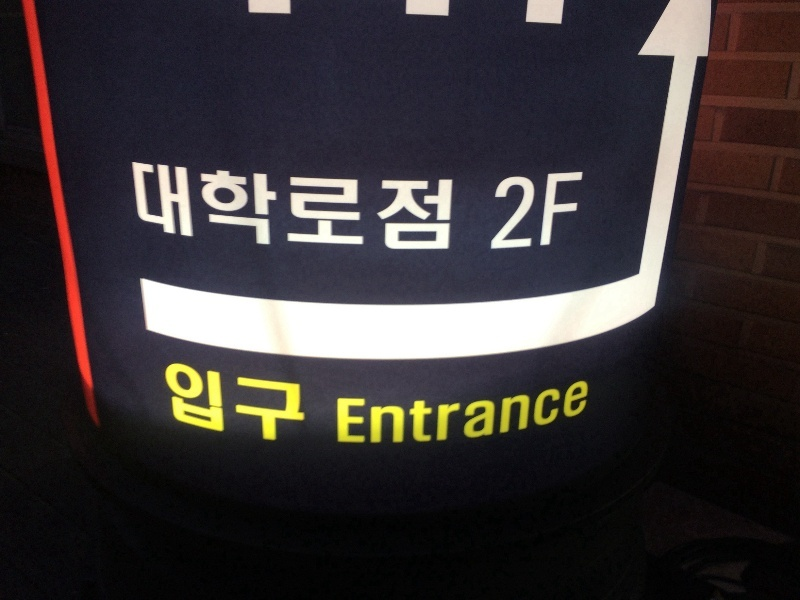text: (129, 159, 144, 258), (145, 159, 160, 258), (161, 159, 176, 258), (177, 159, 192, 258), (193, 159, 208, 258), (209, 159, 224, 258), (225, 159, 240, 258), (241, 159, 256, 258), (257, 159, 272, 258), (273, 159, 288, 258), (289, 159, 304, 258), (305, 159, 320, 258), (321, 159, 336, 258), (337, 159, 352, 258), (353, 159, 368, 258), (369, 159, 384, 258), (385, 159, 400, 258), (401, 159, 416, 258), (417, 159, 432, 258), (433, 159, 448, 258), (161, 359, 176, 449), (177, 359, 192, 449), (193, 359, 208, 449), (209, 359, 224, 449), (225, 359, 240, 449), (241, 359, 256, 449), (257, 359, 272, 449), (273, 359, 288, 449), (289, 359, 304, 449), (497, 169, 512, 256), (513, 169, 528, 256), (529, 169, 544, 256), (545, 169, 560, 256), (561, 169, 576, 256), (337, 378, 352, 450), (353, 378, 368, 450), (369, 378, 384, 450), (385, 378, 400, 450), (401, 378, 416, 450), (417, 378, 432, 450), (433, 378, 448, 450), (449, 378, 464, 450), (465, 378, 480, 450), (481, 378, 496, 450), (497, 378, 512, 450), (513, 378, 528, 450), (529, 378, 544, 450), (545, 378, 560, 450), (561, 378, 576, 450), (577, 378, 591, 450), (577, 169, 585, 256), (449, 159, 456, 258), (305, 359, 306, 449), (495, 169, 496, 256)
